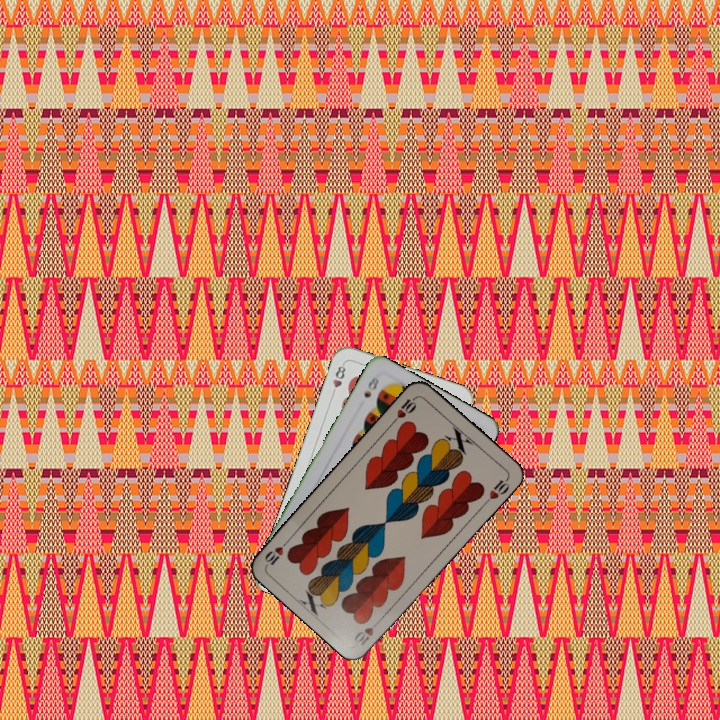H10: (350, 615, 384, 648), (388, 393, 419, 426)
H8: (328, 359, 348, 399)
S8: (360, 372, 382, 400)
